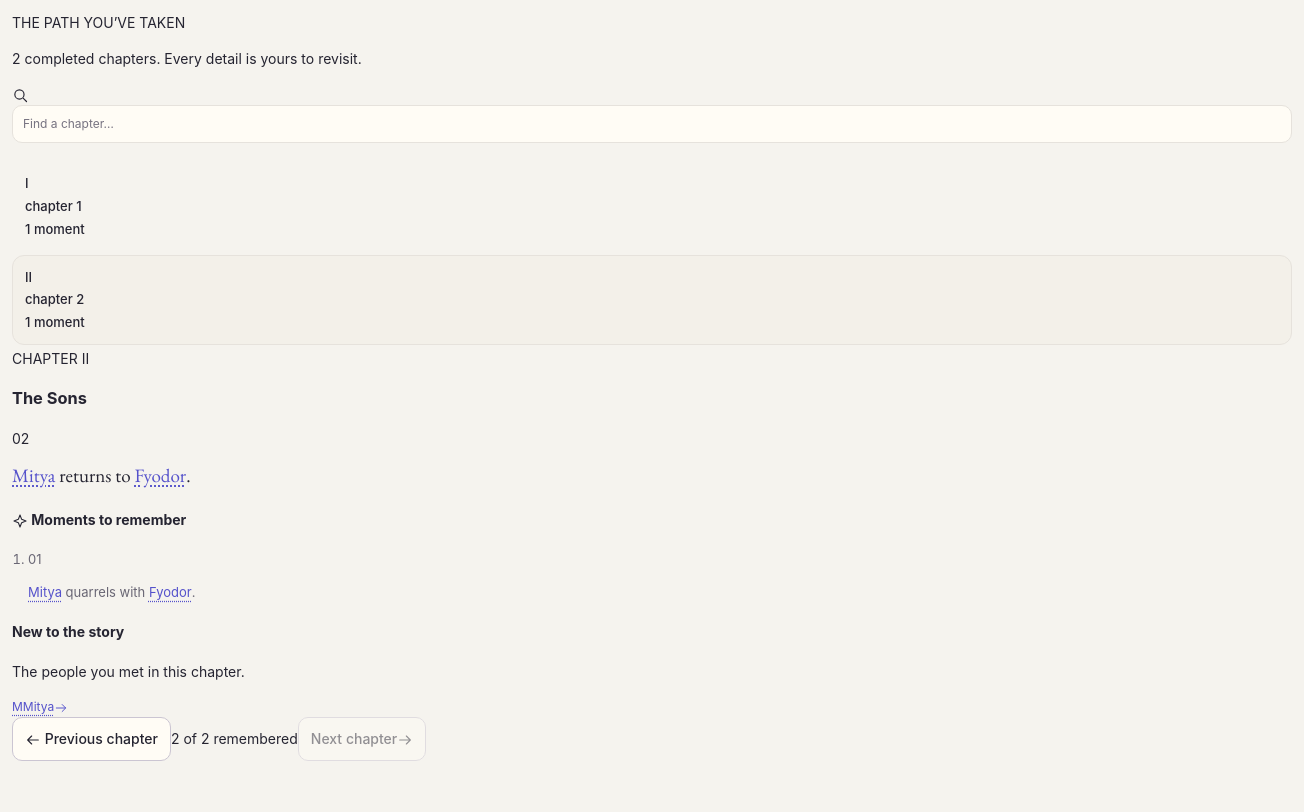
Test: ChapterBreakdown › searches already-read chapter titles and summaries without expanding every result
The width and height of the screenshot is (1304, 812).
Step 1. Type "Elder" into the search field labelled "Find a chapter…" → (652, 124), box [12,105,1292,143]
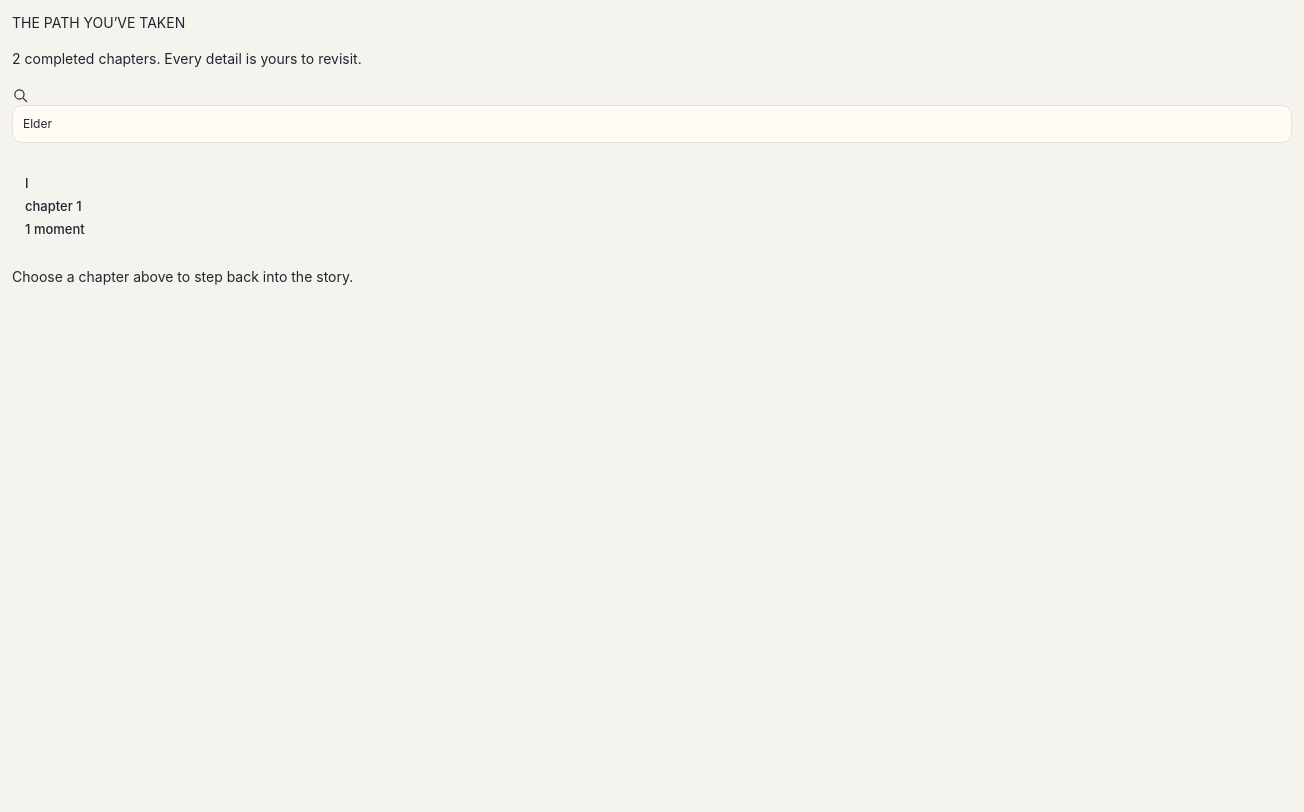
Expected: the button with aria-label "The Elder" is shown, [25,174,1279,239]
Now the heading "The Sons" is gone
